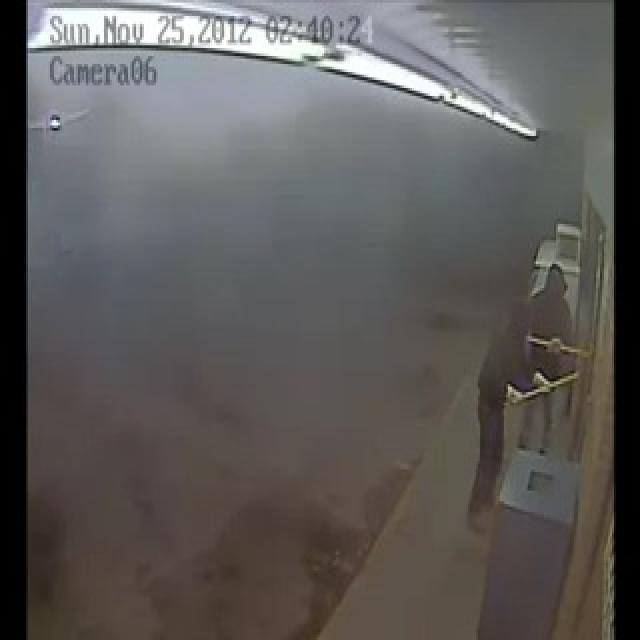burglary: (525, 264, 601, 451)
